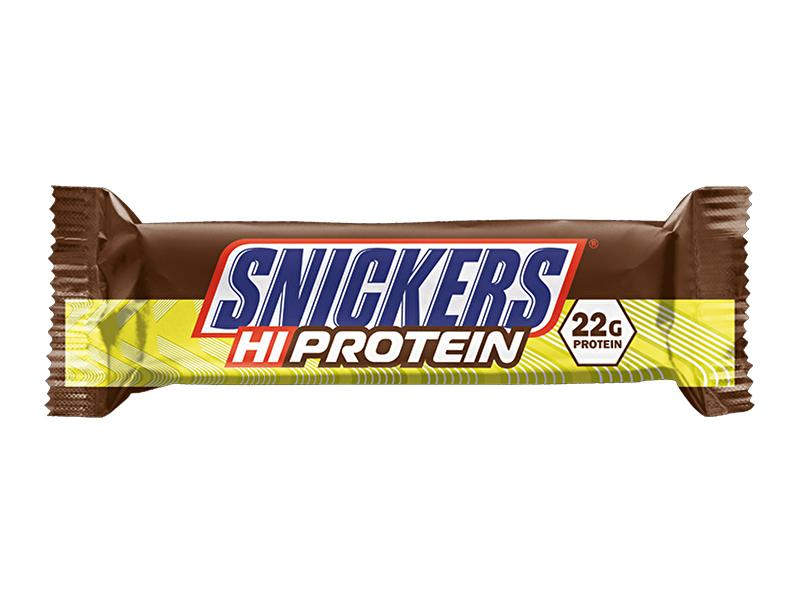snickers: (211, 247, 568, 327)
